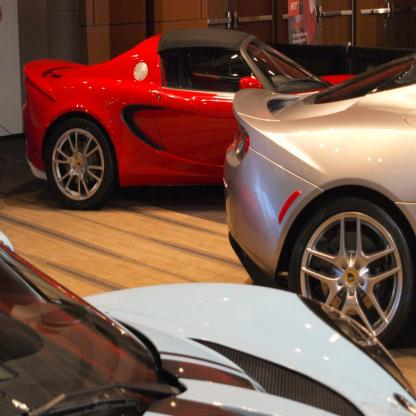Car: (2, 231, 416, 416), (23, 30, 357, 212), (223, 53, 416, 350)
